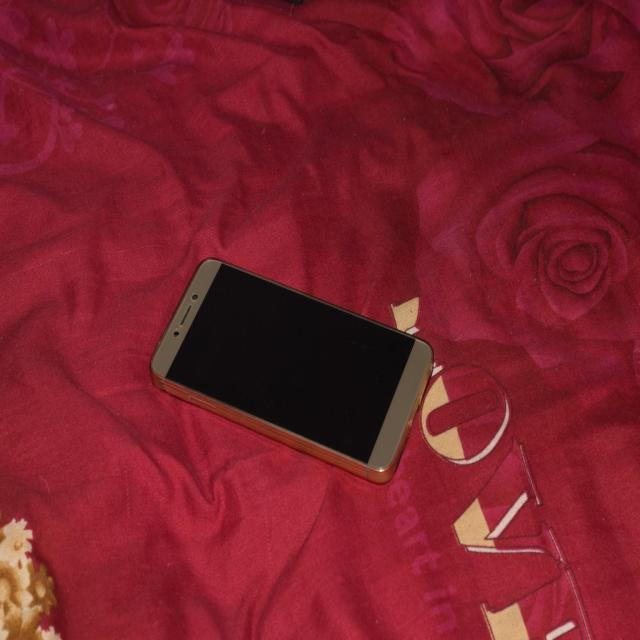Phone: (148, 255, 434, 485)
